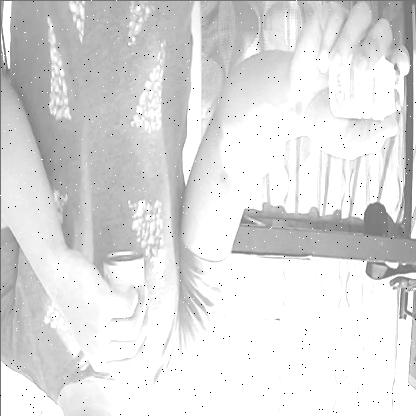Others: (303, 18, 414, 136)
